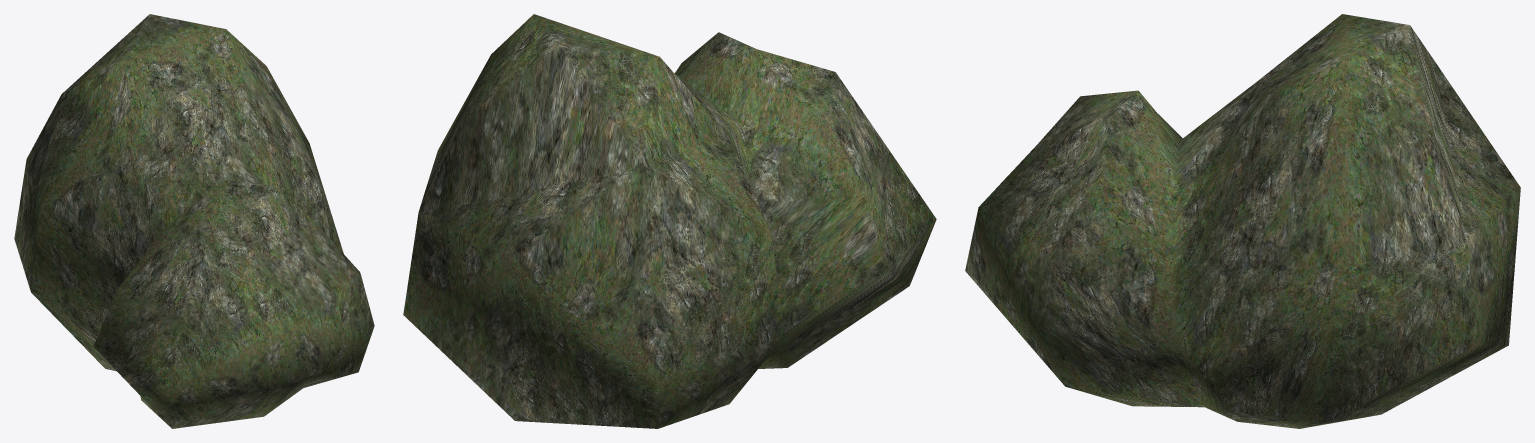
File: mtns_rock_moss_l1.fbx
3 views of the same model, side by side, from view 1: azimuth 30°, elevation 25°; view 2: azimuth 150°, elevation 25°; view 3: azimuth 270°, elevation 25° (orthographic). The views are drawn at different scales.
Parts seen in each view (by area): view 1: mesh_node; view 2: mesh_node; view 3: mesh_node.
Part boxes in pixels (box(x1,y1,x2,y2)): mesh_node: box(14, 14, 374, 428); mesh_node: box(403, 14, 936, 428); mesh_node: box(965, 14, 1520, 428).
Size of the model in its own units: 2.68 by 2.67 by 3.73.
